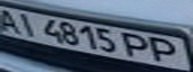1: (75, 22, 96, 50)
4: (36, 16, 63, 43)
5: (97, 25, 118, 54)
8: (57, 19, 78, 47)
A: (0, 6, 21, 34)
I: (12, 10, 42, 37)
P: (145, 35, 190, 64), (121, 30, 154, 60)
